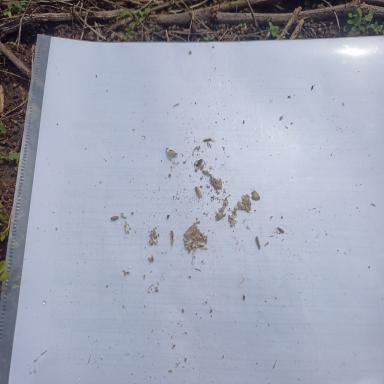pbw: (195, 186, 203, 197), (199, 232, 208, 240), (219, 204, 226, 213), (170, 230, 174, 245), (256, 236, 260, 249), (218, 178, 223, 188), (277, 227, 285, 233)
